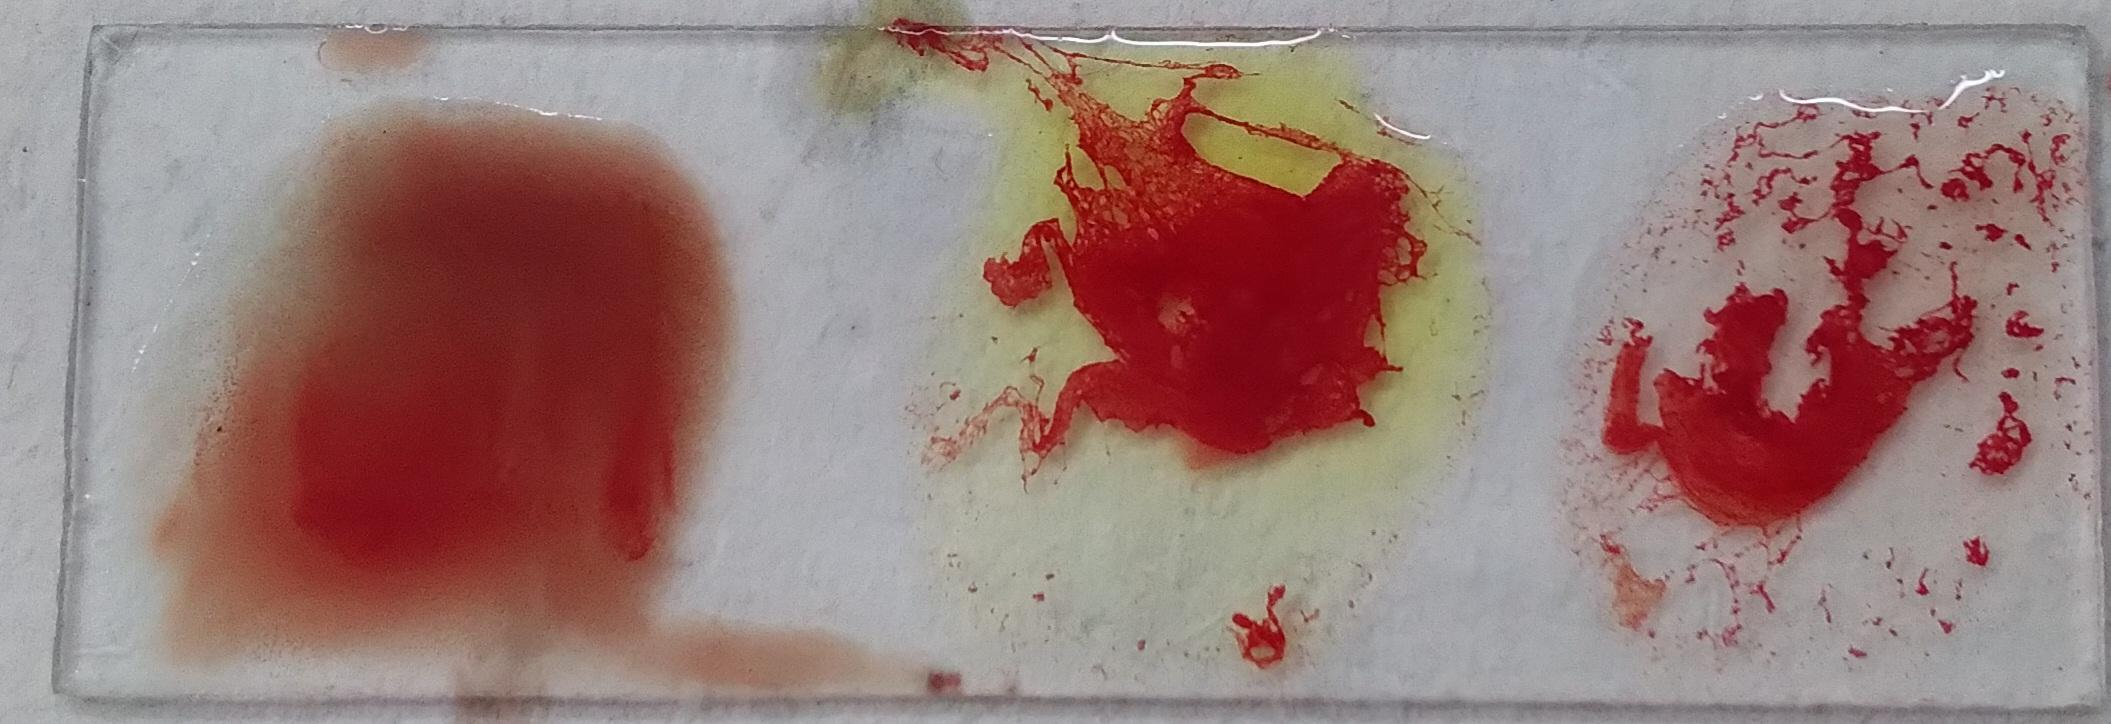B: (960, 36, 1466, 670)
D: (1626, 79, 2081, 716)
